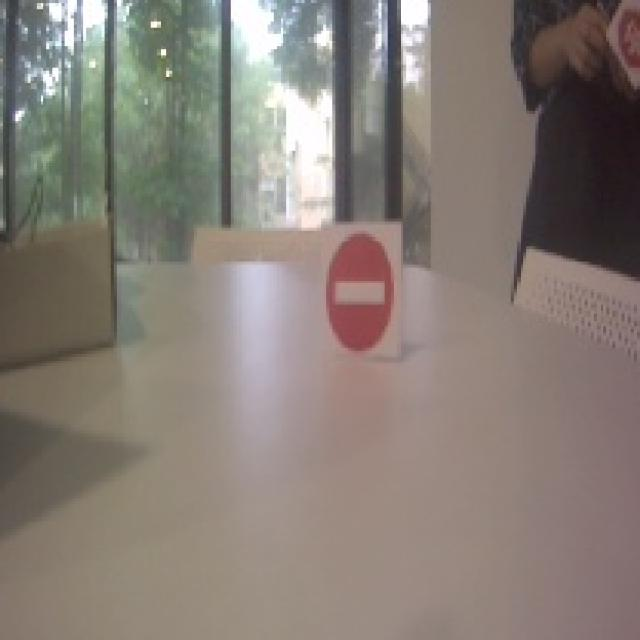DoNotEnterSign: (325, 232, 396, 358)
